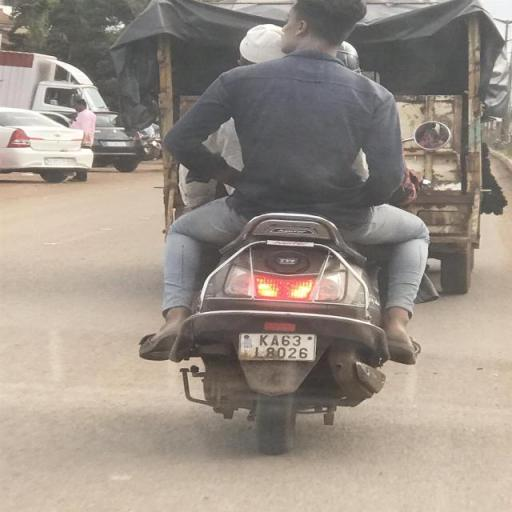tripple riding: (154, 0, 436, 227)
